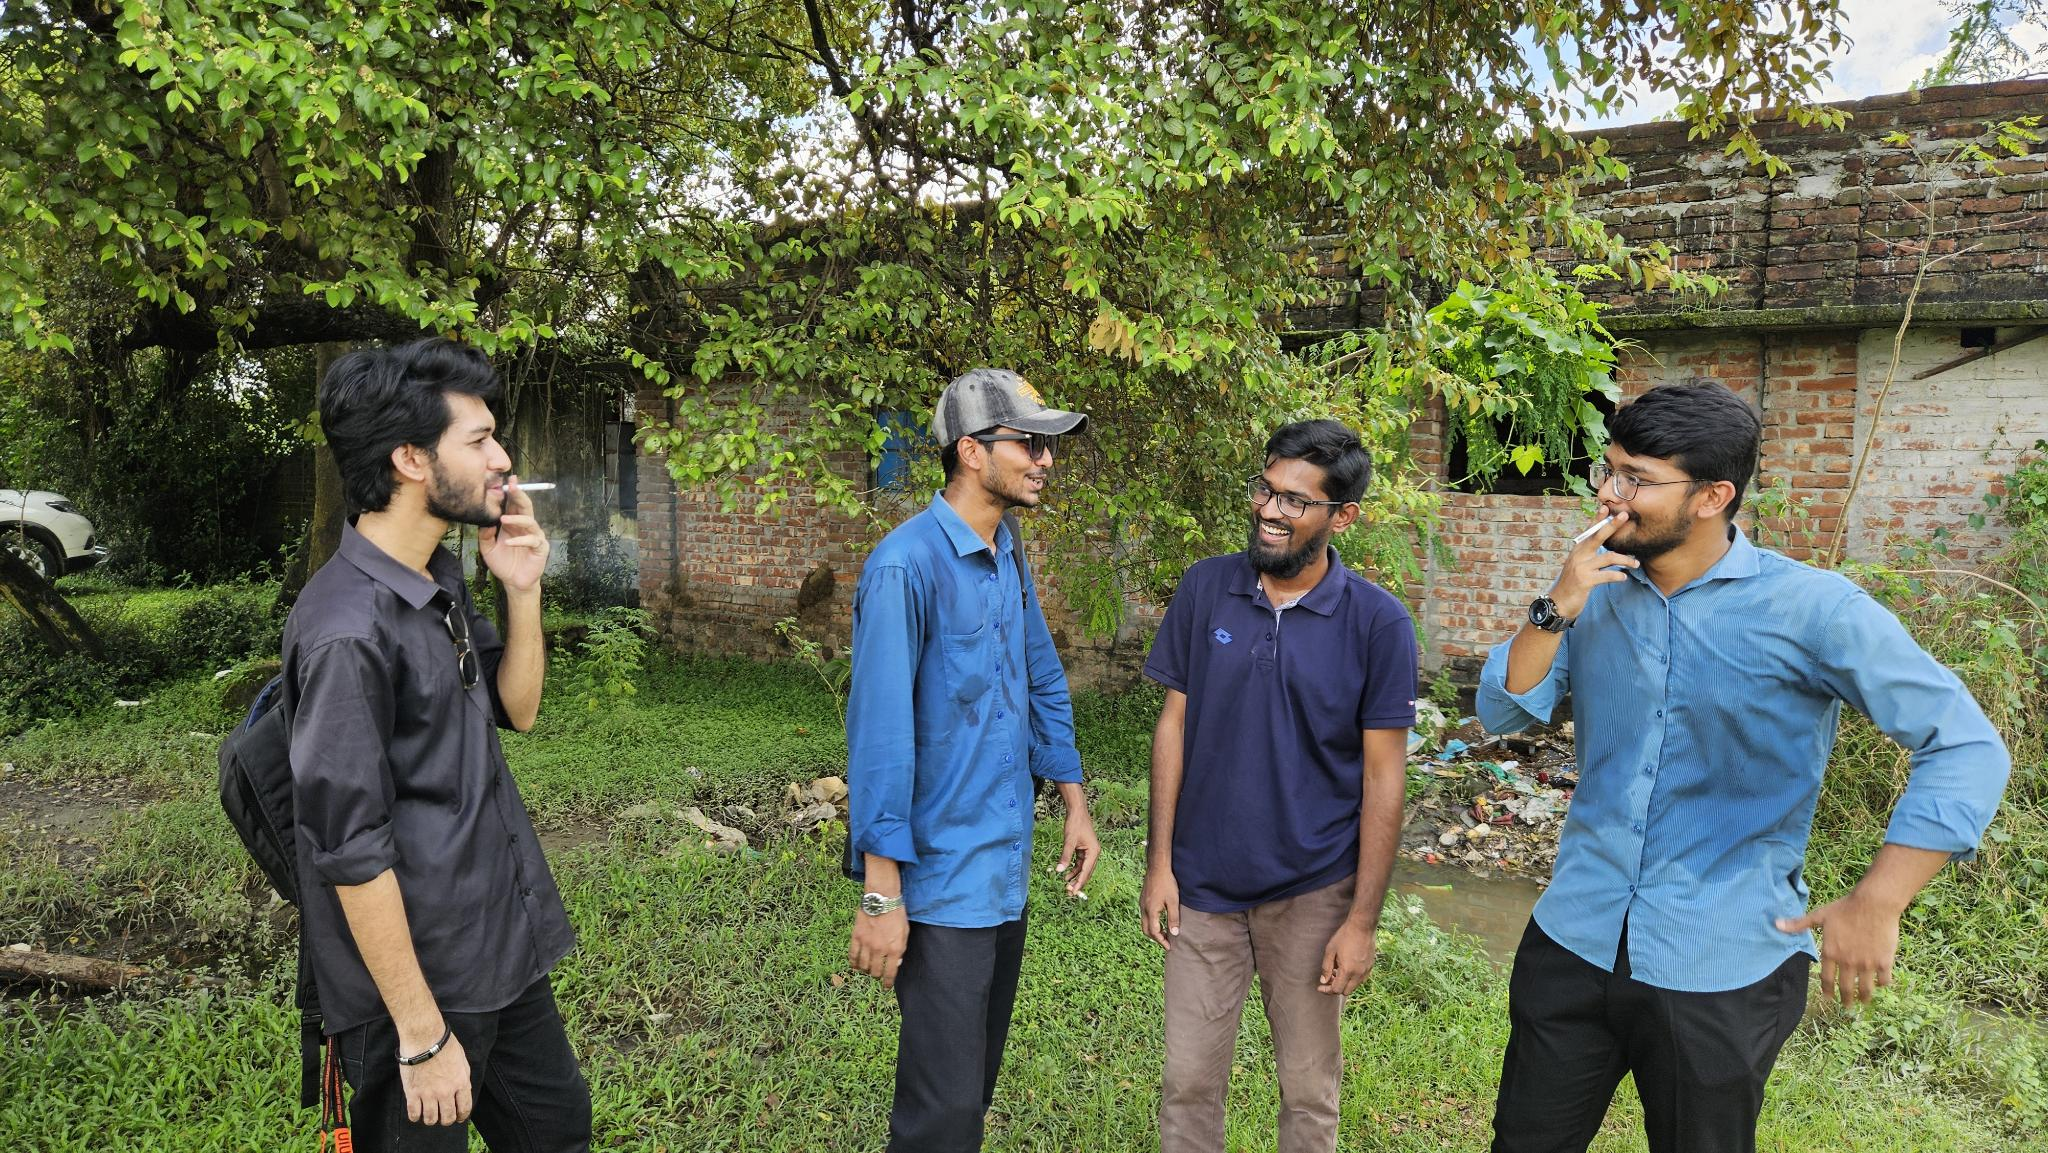cigarette: (1571, 513, 1616, 547), (499, 479, 558, 496), (1066, 883, 1089, 901)
nonSmoker: (1138, 419, 1418, 1153)
smoker: (1474, 380, 2010, 1153), (218, 339, 592, 1153), (843, 368, 1100, 1153)
